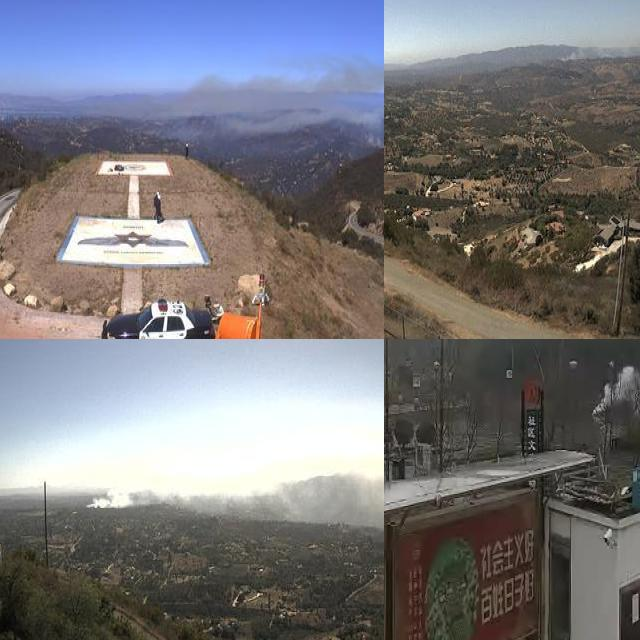smoke: (83, 450, 384, 541), (187, 53, 384, 149), (588, 339, 640, 417), (556, 29, 640, 64)
